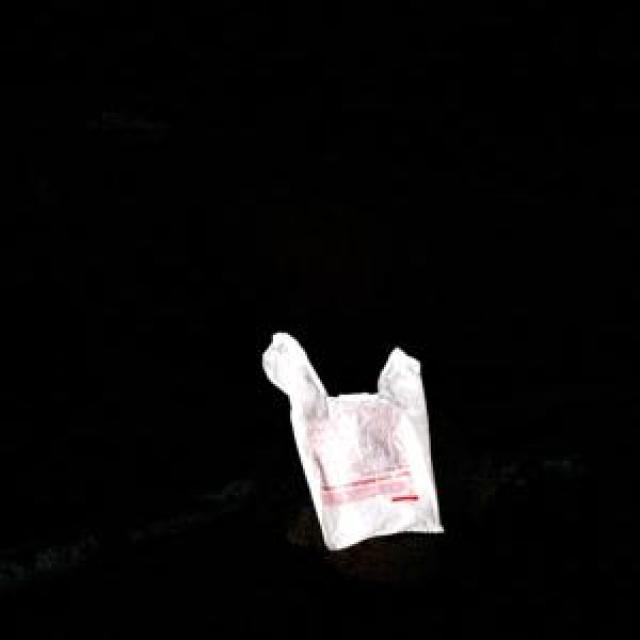waste: (262, 332, 444, 549)
